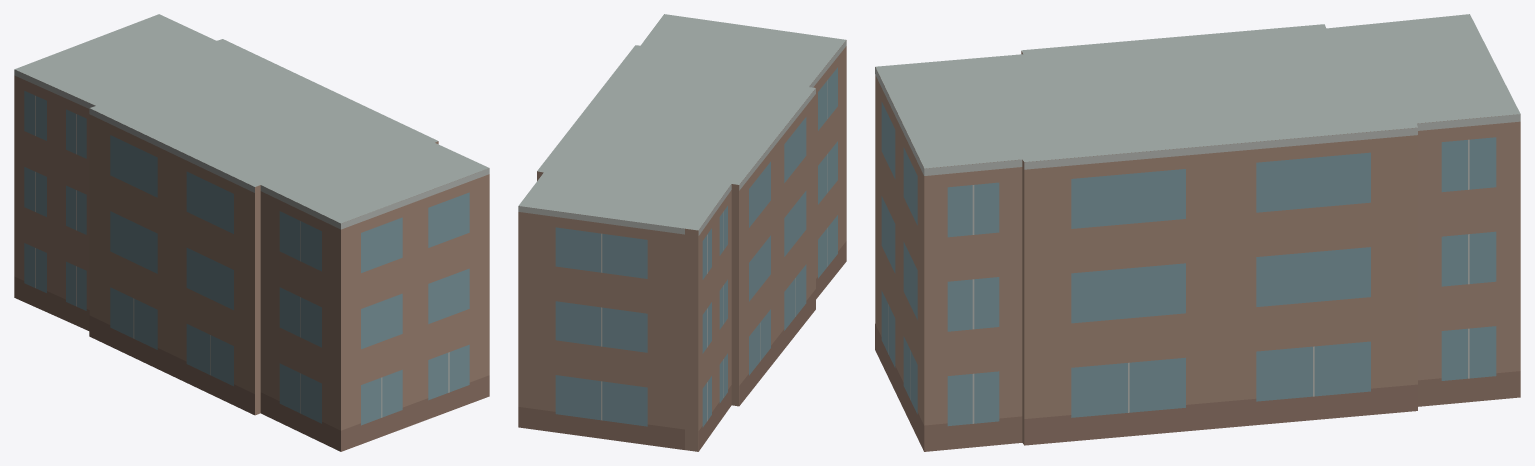
Rendered from survey-upis-32709181.glb.
3 renders of one model, left to right at view 1: azimuth 30°, elevation 25°; view 2: azimuth 150°, elevation 25°; view 3: azimuth 270°, elevation 25°, orthographic. The views are drawn at different scales.
Visible parts, largest first — view 1: survey-upis-32709181.tmp; view 2: survey-upis-32709181.tmp; view 3: survey-upis-32709181.tmp.
Boxes of the visible parts, left/top/right/bottom form: survey-upis-32709181.tmp: left=14, top=14, right=489, bottom=451; survey-upis-32709181.tmp: left=518, top=14, right=846, bottom=451; survey-upis-32709181.tmp: left=875, top=14, right=1520, bottom=451.
Size of the model in its own units: 10.72 by 9.15 by 18.9.
